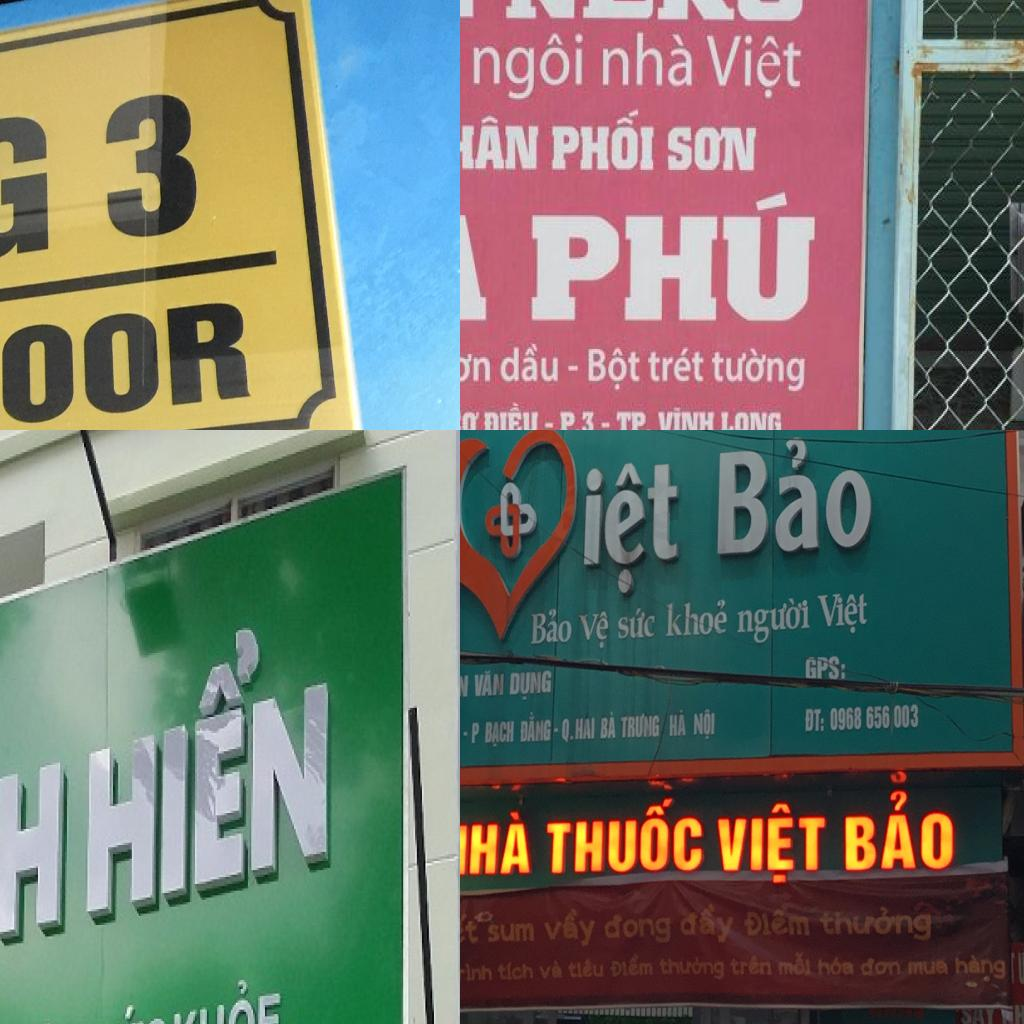text: (88, 598, 332, 916), (529, 187, 816, 324), (0, 296, 252, 430), (714, 430, 874, 558), (576, 447, 688, 596), (546, 794, 710, 878), (102, 90, 201, 229), (0, 760, 63, 972), (840, 786, 963, 882), (716, 799, 830, 888), (471, 29, 584, 105), (549, 106, 656, 175), (504, 0, 805, 24), (706, 34, 804, 102), (460, 805, 535, 885), (173, 970, 284, 1024), (602, 30, 693, 90), (819, 904, 938, 945), (710, 346, 806, 396), (667, 123, 759, 175), (460, 114, 540, 173), (616, 404, 783, 430), (735, 594, 814, 648), (830, 698, 922, 735), (816, 586, 871, 641), (664, 595, 730, 640), (604, 908, 675, 949), (743, 904, 814, 944), (499, 342, 560, 386), (541, 904, 596, 951), (681, 902, 736, 948), (587, 348, 642, 392), (647, 347, 706, 386), (528, 604, 575, 651), (954, 946, 1009, 985), (94, 995, 167, 1024), (659, 952, 726, 982), (481, 400, 540, 430), (616, 603, 658, 643), (508, 666, 554, 702), (576, 604, 610, 652), (802, 653, 850, 687), (608, 952, 654, 982), (487, 918, 536, 946), (620, 710, 663, 740), (497, 957, 537, 989), (730, 952, 772, 982), (817, 950, 856, 982), (861, 951, 903, 980), (460, 347, 492, 385), (568, 954, 606, 986), (905, 953, 951, 979), (518, 711, 554, 744), (473, 667, 506, 701), (484, 715, 516, 749), (690, 705, 718, 743), (460, 958, 494, 988), (778, 952, 814, 979), (801, 703, 827, 735), (559, 409, 598, 430), (460, 910, 480, 947), (669, 708, 690, 739), (538, 958, 564, 983), (599, 709, 619, 741), (576, 711, 596, 741), (561, 711, 575, 744), (1014, 943, 1024, 988), (460, 409, 481, 430), (470, 715, 481, 748), (554, 723, 559, 735), (464, 729, 470, 738)
